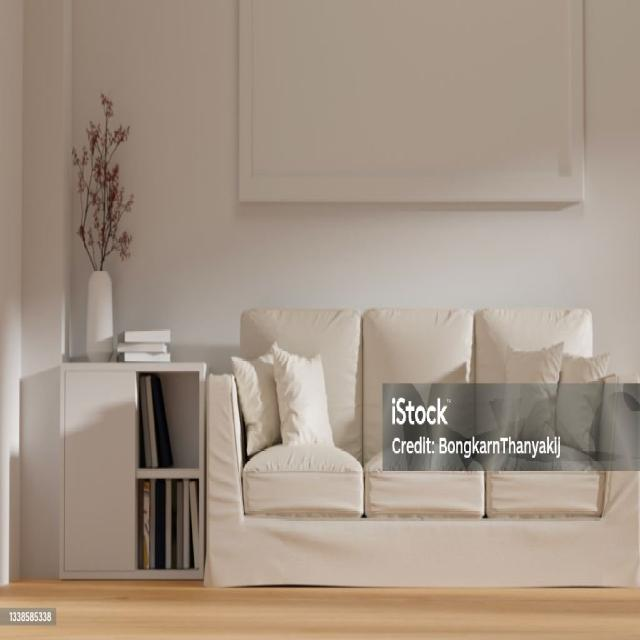back_cushion: (241, 309, 592, 462)
base: (207, 517, 627, 584)
left_arm: (581, 380, 639, 584)
right_arm: (204, 374, 246, 586)
seat_cushion: (242, 446, 604, 517)
stallion-sofa: (204, 308, 639, 586)
